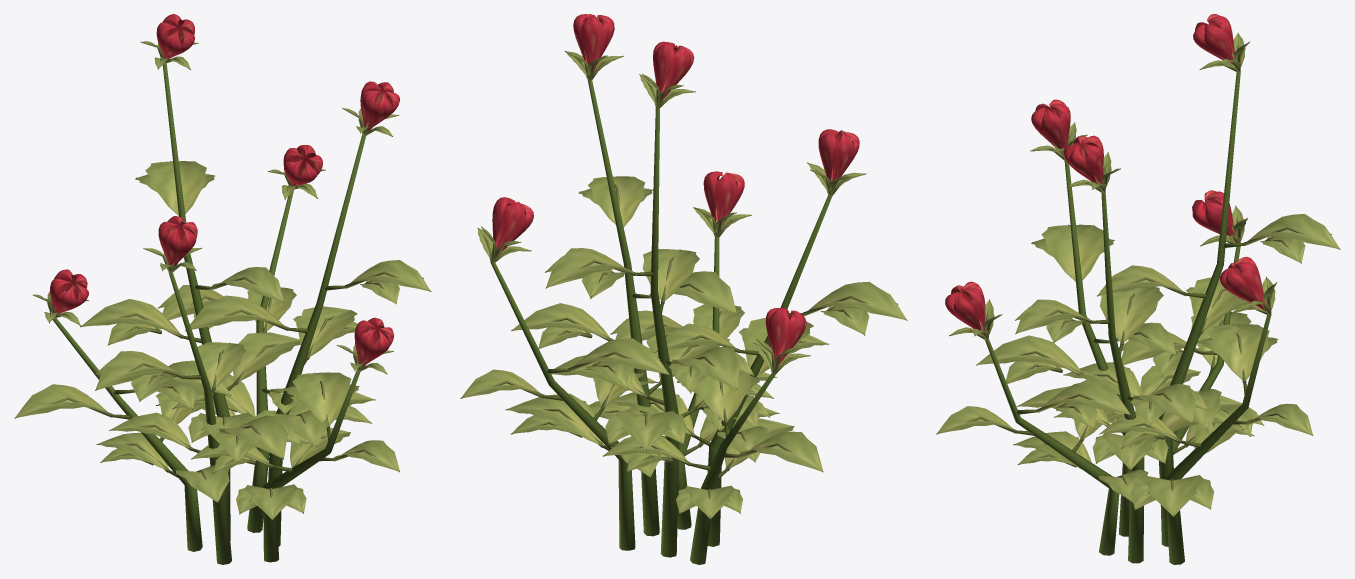
File: rose_growing.glb
3 renders of one model, left to right at view 1: azimuth 30°, elevation 25°; view 2: azimuth 150°, elevation 25°; view 3: azimuth 270°, elevation 25°, orthographic. The views are drawn at different scales.
Visible parts, largest first — view 1: leaves.001, stems.001, petals; view 2: leaves.001, stems.001, petals; view 3: leaves.001, stems.001, petals.
Part boxes in pixels (x1,y1,x2,y2): leaves.001: [15, 41, 430, 519]; stems.001: [14, 41, 431, 564]; petals: [50, 14, 399, 366]; leaves.001: [461, 51, 906, 518]; stems.001: [460, 51, 907, 564]; petals: [492, 14, 859, 365]; leaves.001: [937, 33, 1339, 516]; stems.001: [936, 33, 1340, 564]; petals: [945, 14, 1265, 334].
Size of the model in its own units: 0.408 by 0.6026 by 0.4279.
